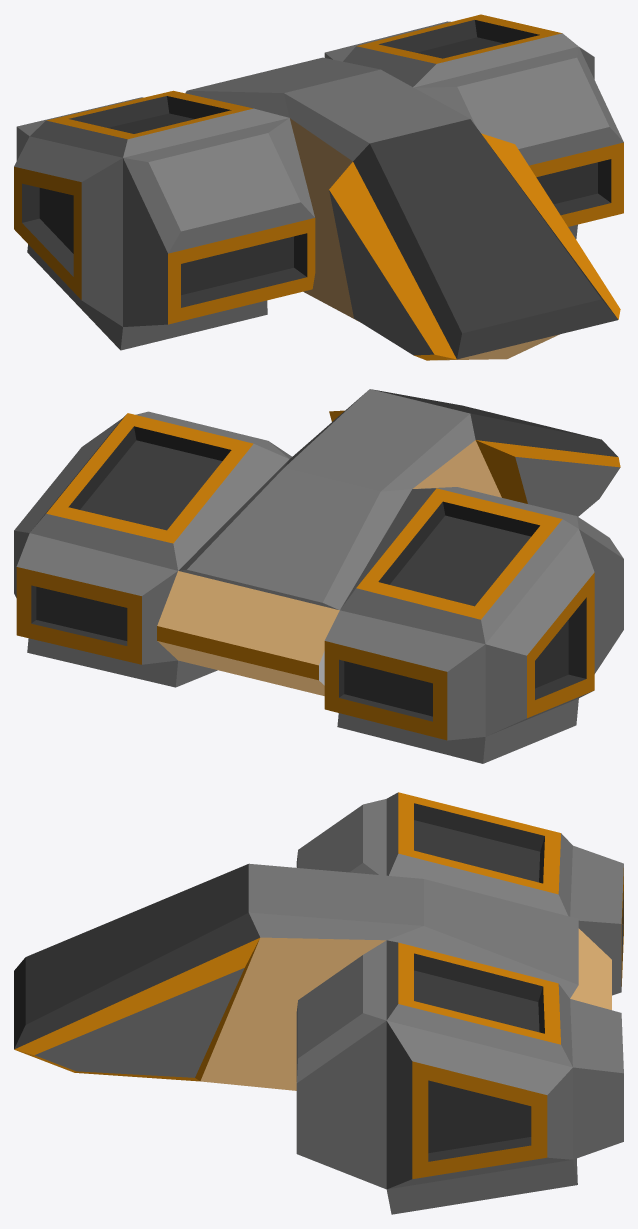
Rendered from spaceship (3).fbx.
3 renders of one model, top to bottom at view 1: azimuth 30°, elevation 25°; view 2: azimuth 150°, elevation 25°; view 3: azimuth 270°, elevation 25°, orthographic.
Parts seen in each view (by area): view 1: Cube; view 2: Cube; view 3: Cube.
Boxes of the visible parts, left/top/right/bottom form: Cube: left=14, top=14, right=623, bottom=360; Cube: left=14, top=389, right=623, bottom=763; Cube: left=14, top=792, right=623, bottom=1214.
Bounding box in the file's own units: 634 × 255 × 655.
